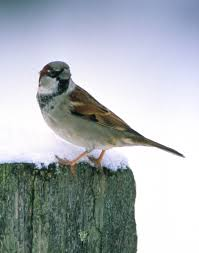hsparrow: (34, 59, 199, 179)
